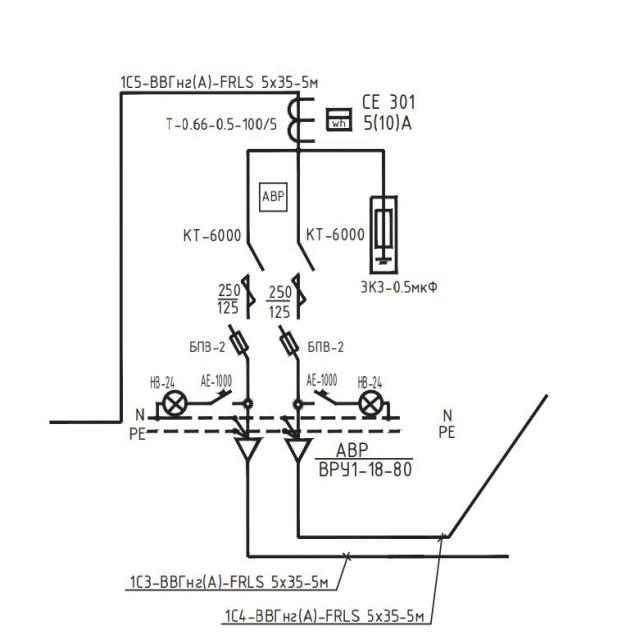-: (165, 114, 278, 136), (362, 88, 416, 134), (316, 459, 412, 480), (306, 224, 366, 244), (214, 280, 242, 318), (264, 282, 292, 320), (182, 227, 242, 243), (306, 340, 344, 356), (188, 341, 226, 356), (304, 372, 338, 388), (198, 373, 232, 389), (146, 374, 180, 390), (355, 373, 383, 389)
AVR: (258, 180, 292, 217)
HL: (356, 388, 386, 416), (160, 388, 190, 416)
KM: (237, 242, 264, 321), (290, 241, 316, 315)
QF: (207, 388, 237, 407), (310, 389, 338, 407)
QFU: (225, 314, 253, 363), (276, 313, 304, 362)
TT: (284, 95, 318, 146)
WH: (324, 106, 354, 133)
